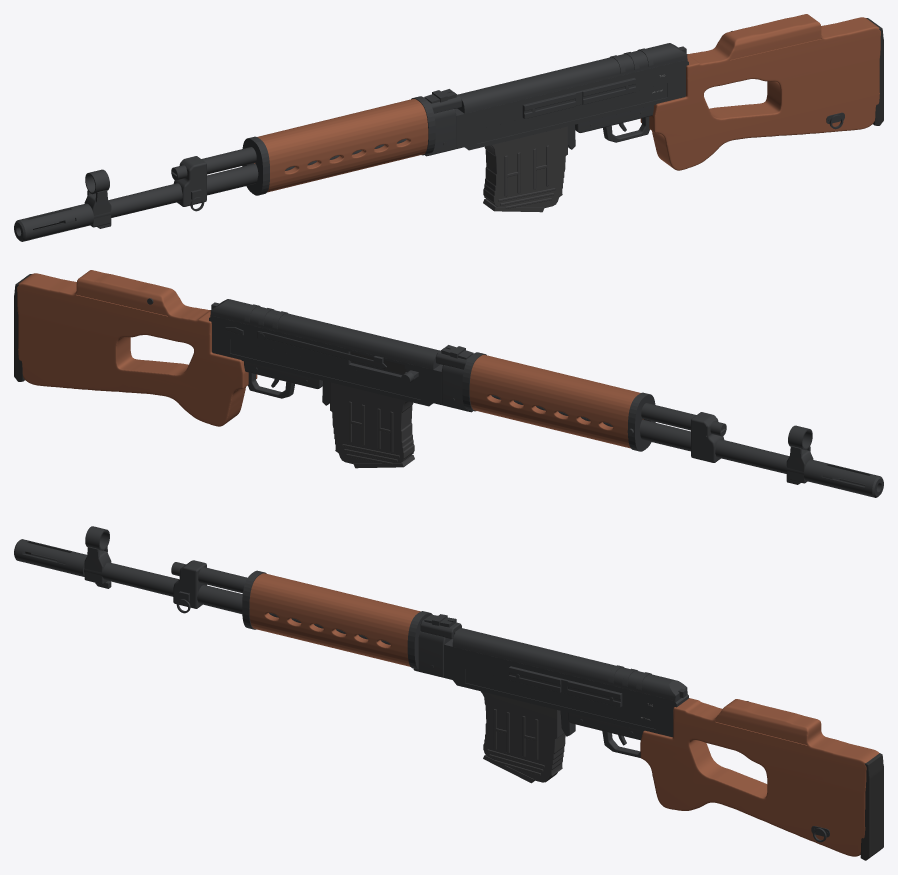
Rendered from tobikage_geometry.glb.
3 renders of one model, top to bottom at view 1: azimuth 30°, elevation 25°; view 2: azimuth 150°, elevation 25°; view 3: azimuth 330°, elevation 25°, orthographic.
Parts seen in each view (by area): view 1: Body, Magazine; view 2: Body, Magazine, Action; view 3: Body, Magazine.
Boxes of the visible parts, x1=… form: Body: x1=14, y1=14, x2=883, y2=241; Magazine: x1=483, y1=126, x2=567, y2=212; Body: x1=14, y1=270, x2=883, y2=497; Magazine: x1=330, y1=382, x2=414, y2=468; Action: x1=350, y1=352, x2=418, y2=384; Body: x1=14, y1=526, x2=883, y2=860; Magazine: x1=481, y1=691, x2=565, y2=783.
Bounding box in the file's own units: 1.23 × 0.1961 × 0.063.
